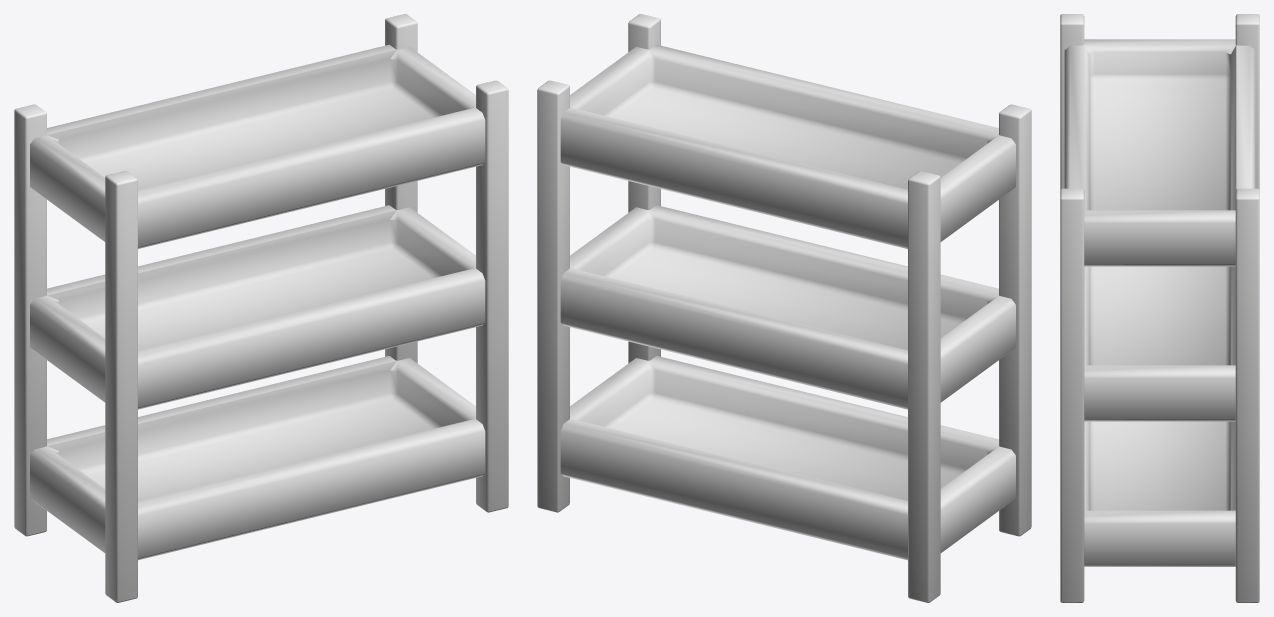
The model's file is Kitchen_Rack_01_C02.fbx.
The picture shows the model from 3 angles, left to right: view 1: azimuth 30°, elevation 25°; view 2: azimuth 150°, elevation 25°; view 3: azimuth 270°, elevation 25°; orthographic projection. The views are drawn at different scales.
Parts seen in each view (by area): view 1: Kitchen_Rack_01_C02; view 2: Kitchen_Rack_01_C02; view 3: Kitchen_Rack_01_C02.
Boxes of the visible parts, x1,y1,x2,y2 form: Kitchen_Rack_01_C02: (14, 14, 508, 602); Kitchen_Rack_01_C02: (537, 14, 1031, 602); Kitchen_Rack_01_C02: (1060, 14, 1259, 602).
Size of the model in its own units: 159 by 162 by 72.34.
